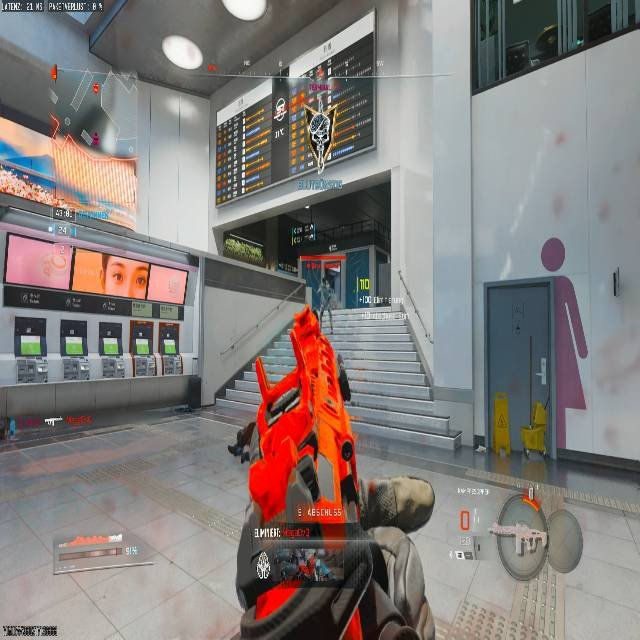player: (317, 274, 334, 319)
